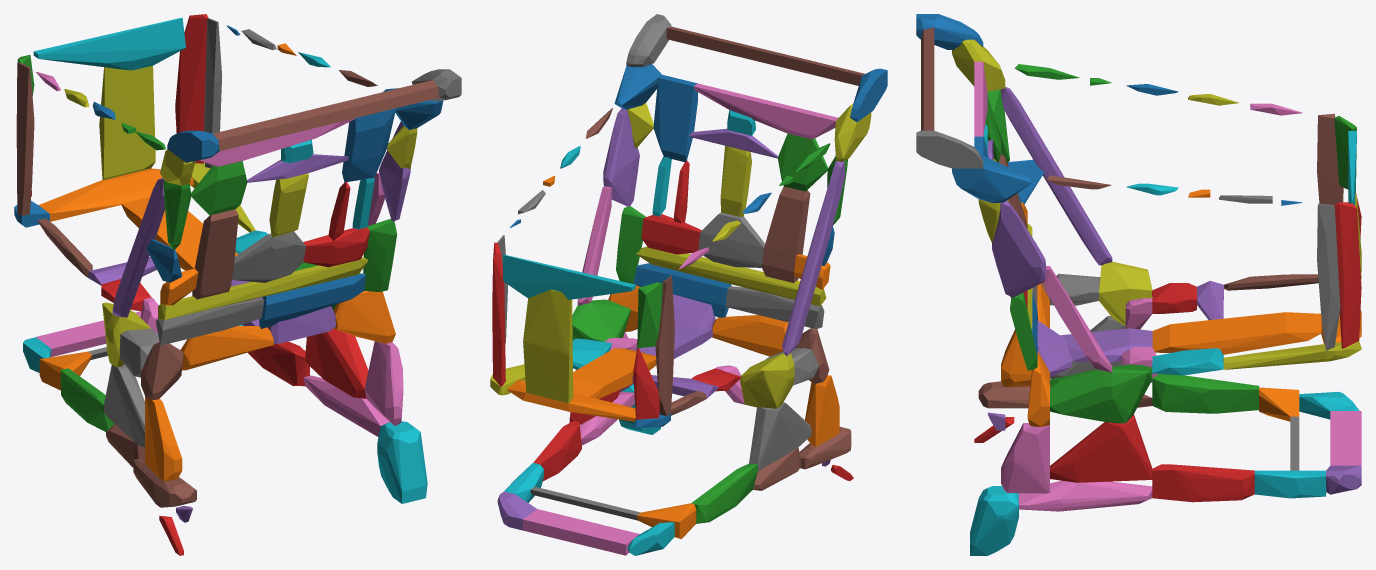
File: decomp.obj
3 views of the same model, side by side, from view 1: azimuth 30°, elevation 25°; view 2: azimuth 150°, elevation 25°; view 3: azimuth 270°, elevation 25° (orthographic). The views are drawn at different scales.
Parts seen in each view (by area): view 1: ../../../../OrcaGym_Assets/scene_assets/usdz/converted_files/Car; view 2: ../../../../OrcaGym_Assets/scene_assets/usdz/converted_files/Car; view 3: ../../../../OrcaGym_Assets/scene_assets/usdz/converted_files/Car.
Part boxes in pixels (left/top/right/bottom): ../../../../OrcaGym_Assets/scene_assets/usdz/converted_files/Car: left=14, top=14, right=461, bottom=555; ../../../../OrcaGym_Assets/scene_assets/usdz/converted_files/Car: left=490, top=14, right=887, bottom=555; ../../../../OrcaGym_Assets/scene_assets/usdz/converted_files/Car: left=916, top=14, right=1361, bottom=555.
Size of the model in its own units: 61.57 by 99.45 by 94.72.
